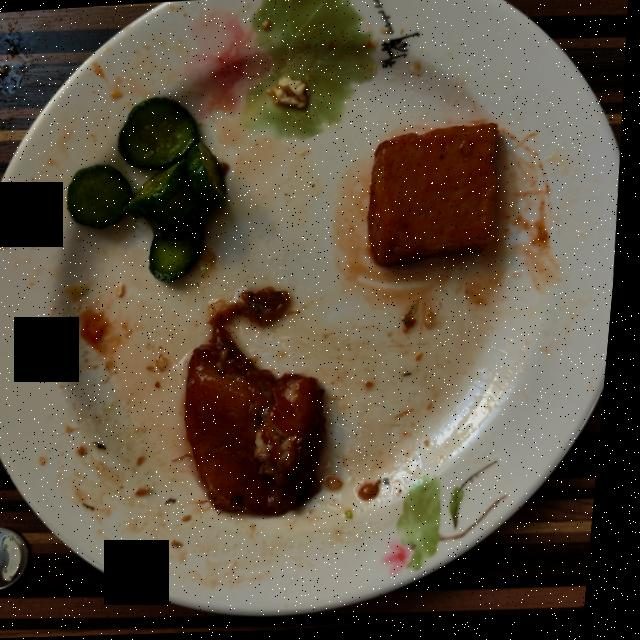Kabayaki sea bream fillet: (192, 290, 332, 517)
coin: (0, 527, 38, 590)
creamy tofu: (372, 125, 499, 268)
cucumber: (71, 97, 228, 281)
